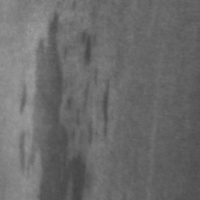inclusion: (12, 5, 106, 198), (62, 65, 110, 146), (75, 27, 102, 70)
